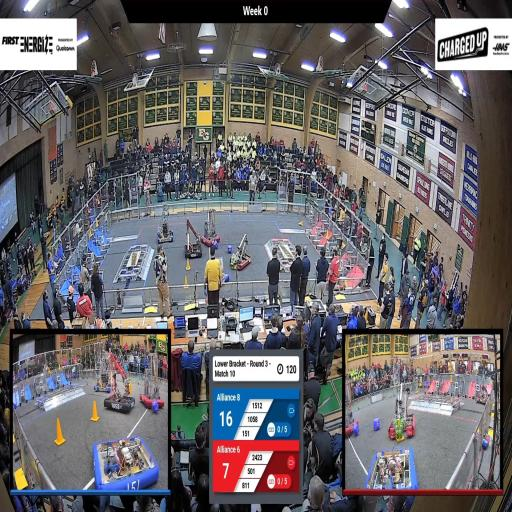robot: (228, 230, 253, 274), (198, 207, 222, 250), (207, 251, 231, 290), (182, 217, 203, 260), (155, 208, 175, 247), (326, 258, 346, 294)
